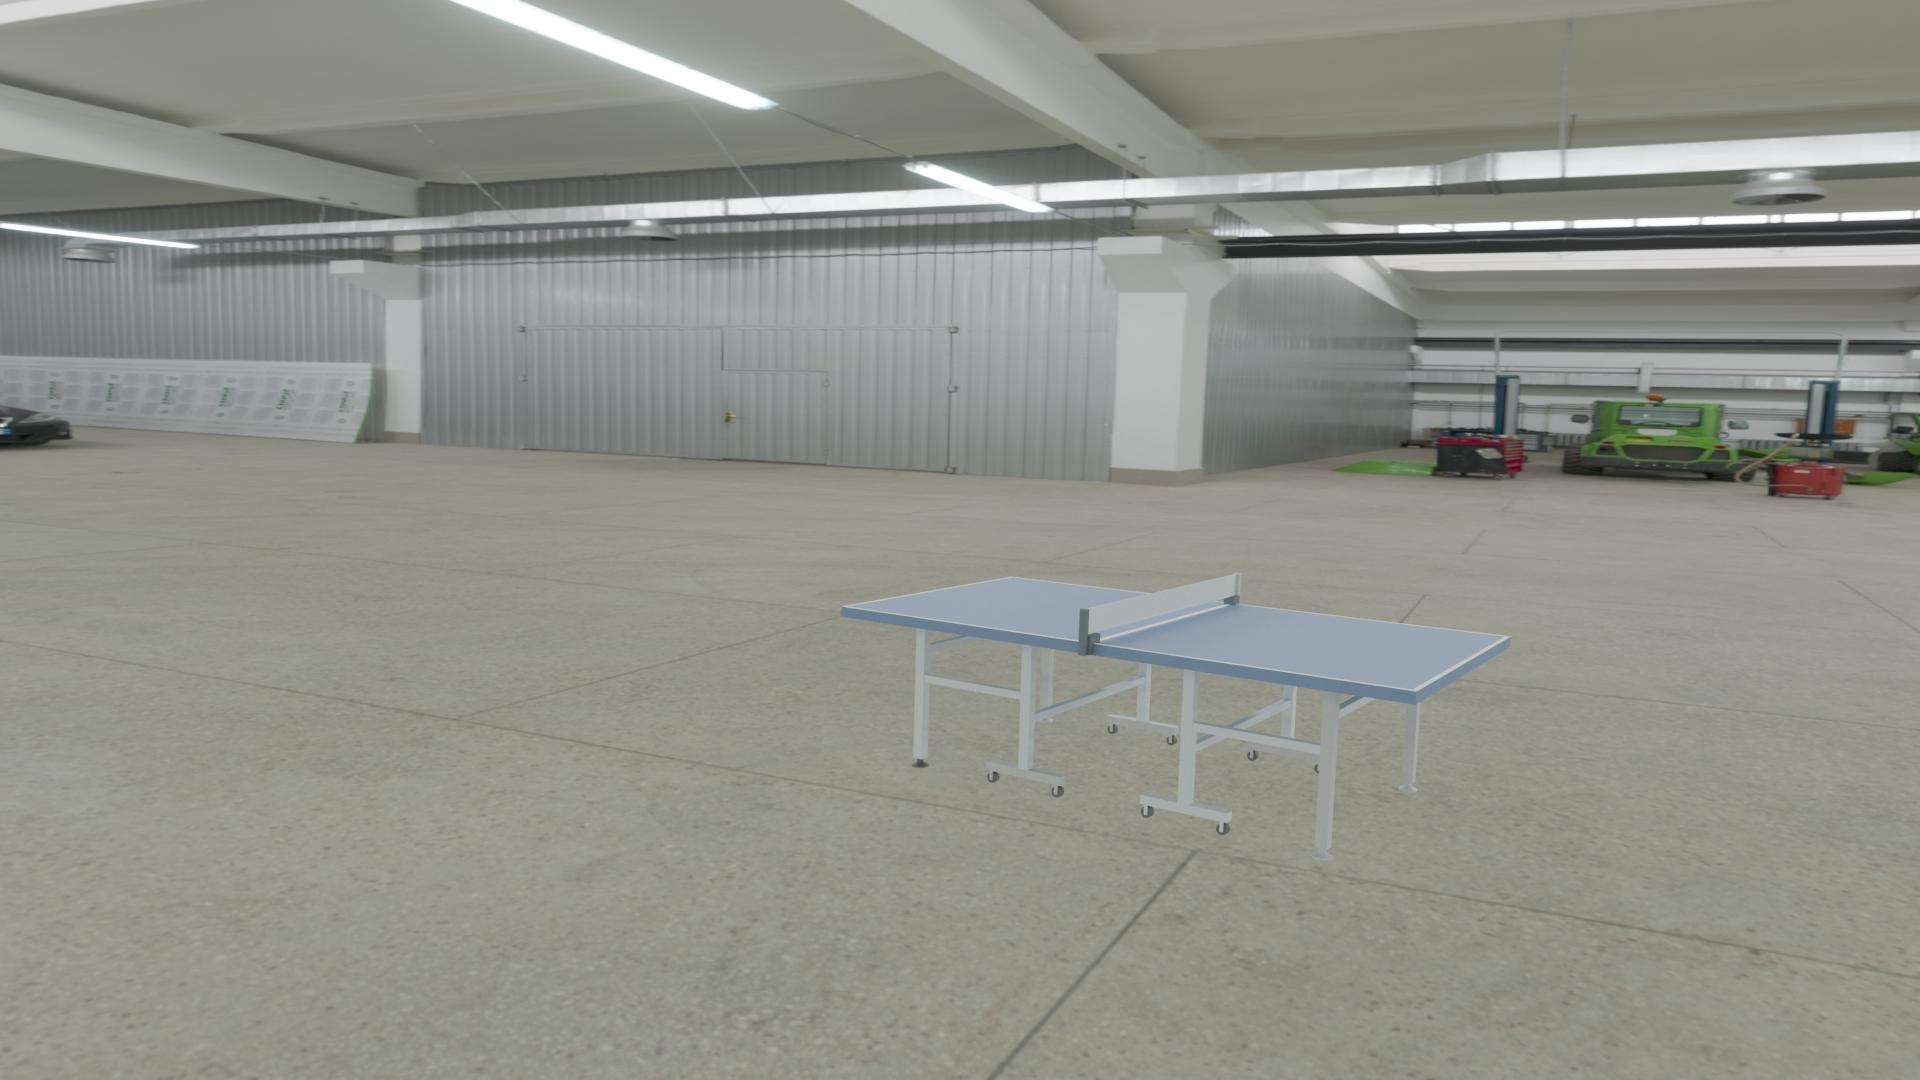table: (847, 577, 1505, 690)
